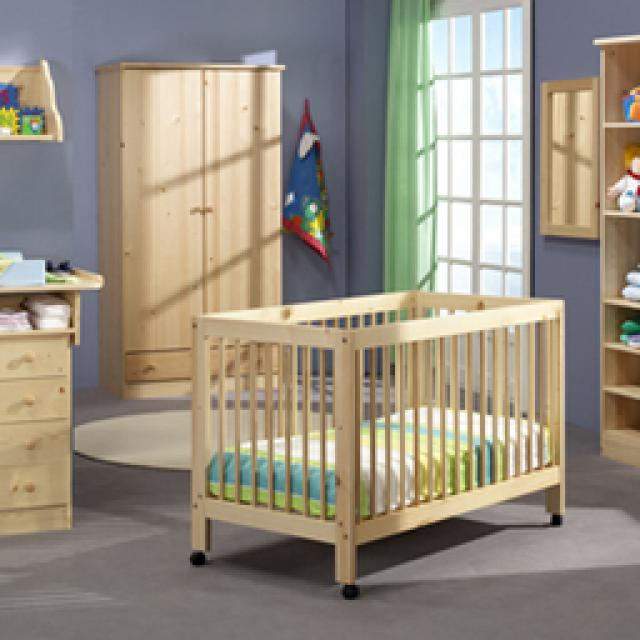2001: (398, 0, 530, 402)
chest of drawers: (0, 260, 100, 532)
closet crop: (85, 60, 282, 398)
cradle: (188, 285, 565, 595)
curtain crop: (378, 0, 432, 378)
floor -X: (0, 368, 638, 637)
mirror crop: (535, 75, 598, 235)
shelf: (0, 55, 58, 138)
shelves occluded: (590, 32, 638, 465)
wall clock: (345, 0, 635, 448)
